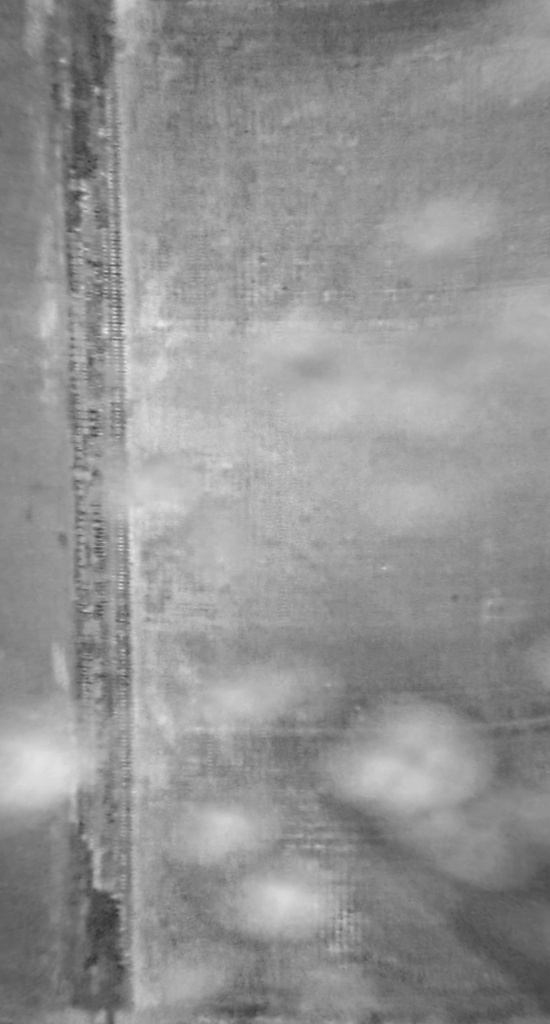splice: (43, 3, 140, 1022)
